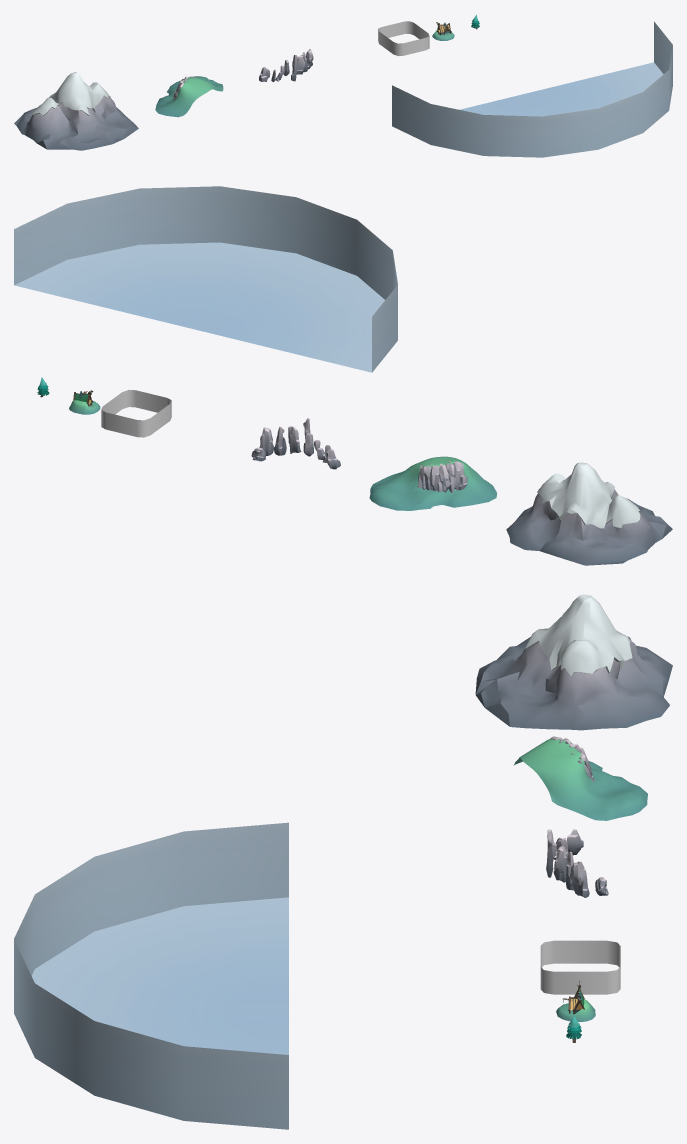
The model's file is assets_t3_a1.fbx.
3 views of the same model, one above another, from view 1: azimuth 30°, elevation 25°; view 2: azimuth 150°, elevation 25°; view 3: azimuth 270°, elevation 25° (orthographic). The views are drawn at different scales.
Visible parts, largest first — view 1: ground_t3_era1, assets_t3_era1_7, assets_t3_era1_6, godray_t3_era1, assets_t3_era1_5, assets_t3_era1_2; view 2: ground_t3_era1, assets_t3_era1_7, assets_t3_era1_6, godray_t3_era1, assets_t3_era1_5; view 3: ground_t3_era1, assets_t3_era1_7, assets_t3_era1_6, godray_t3_era1, assets_t3_era1_5, assets_t3_era1_2.
Part boxes in pixels (x1,y1,x2,y2): ground_t3_era1: (392, 21, 672, 157); assets_t3_era1_7: (14, 72, 138, 150); assets_t3_era1_6: (155, 76, 223, 117); godray_t3_era1: (378, 21, 429, 56); assets_t3_era1_5: (259, 49, 313, 81); assets_t3_era1_2: (432, 22, 454, 40); ground_t3_era1: (14, 186, 397, 372); assets_t3_era1_7: (506, 462, 672, 565); assets_t3_era1_6: (369, 456, 496, 510); godray_t3_era1: (101, 390, 171, 437); assets_t3_era1_5: (251, 418, 340, 469); ground_t3_era1: (14, 822, 288, 1129); assets_t3_era1_7: (475, 594, 672, 730); assets_t3_era1_6: (513, 736, 647, 820); godray_t3_era1: (540, 940, 620, 994); assets_t3_era1_5: (546, 829, 608, 897); assets_t3_era1_2: (556, 980, 595, 1021).
Bounding box in the file's own units: 338 × 30.44 × 194.
